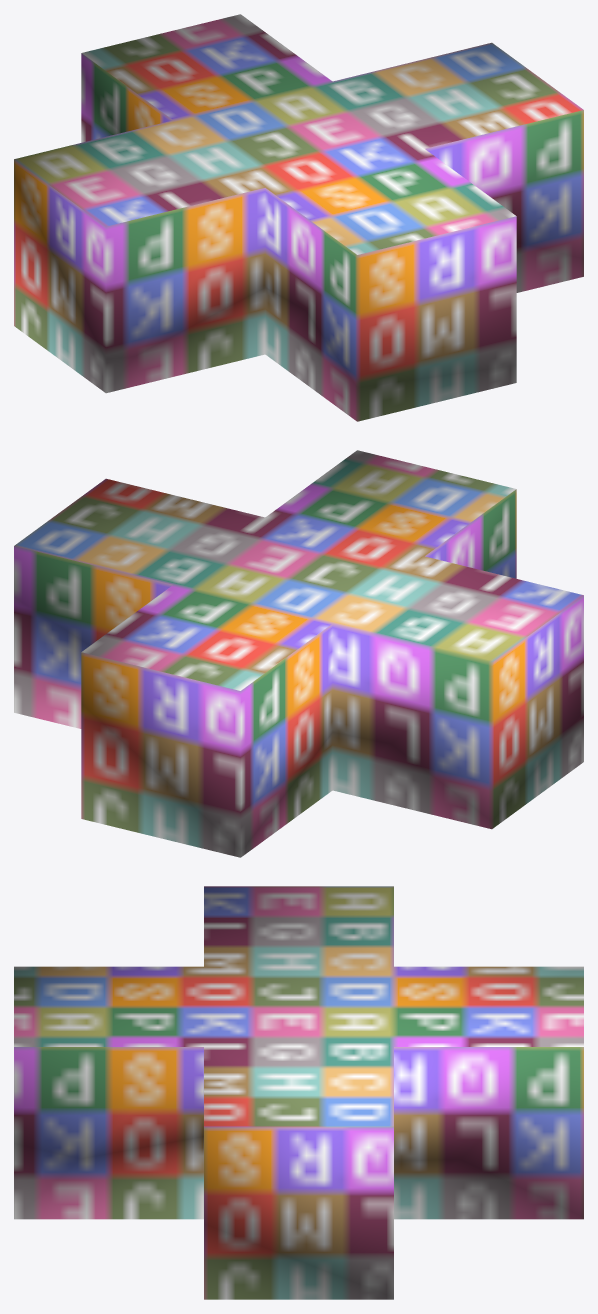
The model's file is plus.dae.
3 renders of one model, top to bottom at view 1: azimuth 30°, elevation 25°; view 2: azimuth 150°, elevation 25°; view 3: azimuth 270°, elevation 25°, orthographic. The views are drawn at different scales.
Visible parts, largest first — view 1: Cube1-0; view 2: Cube1-0; view 3: Cube1-0.
Boxes of the visible parts, box(x1,y1,x2,y2) form: Cube1-0: box(14, 14, 583, 421); Cube1-0: box(14, 450, 583, 857); Cube1-0: box(14, 886, 583, 1299).
Size of the model in its own units: 6 by 2 by 6.
